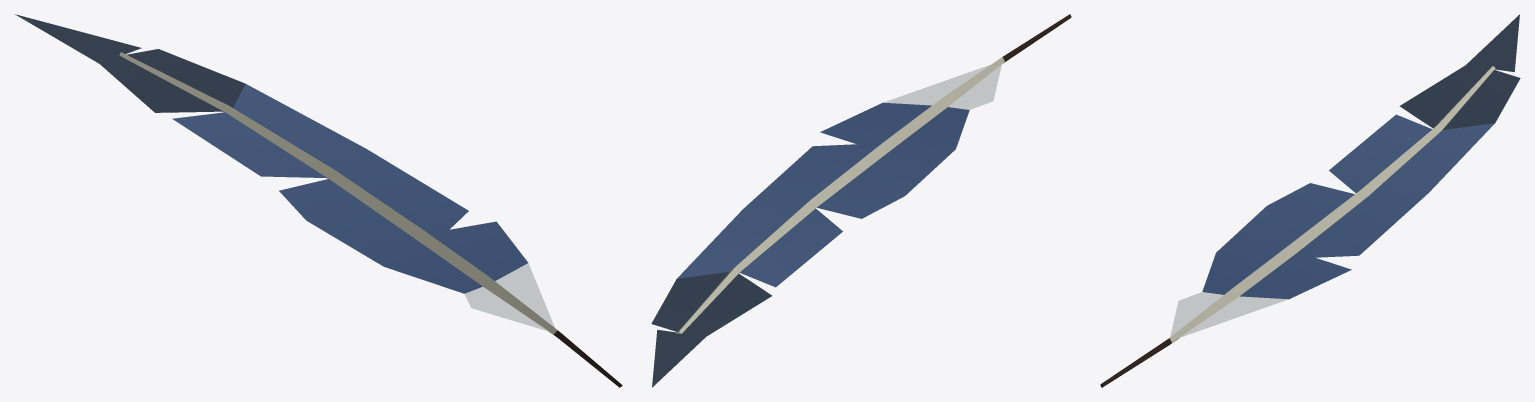
The model's file is FeatherQuillPen_B.fbx.
The picture shows the model from 3 angles, left to right: view 1: azimuth 30°, elevation 25°; view 2: azimuth 150°, elevation 25°; view 3: azimuth 330°, elevation 25°; orthographic projection. The views are drawn at different scales.
Parts seen in each view (by area): view 1: FeatherQuillPen_B; view 2: FeatherQuillPen_B; view 3: FeatherQuillPen_B.
Boxes of the visible parts, x1,y1,x2,y2 form: FeatherQuillPen_B: [15, 14, 622, 387]; FeatherQuillPen_B: [651, 14, 1071, 387]; FeatherQuillPen_B: [1100, 14, 1520, 387].
Size of the model in its own units: 10.87 by 1.07 by 67.23.
